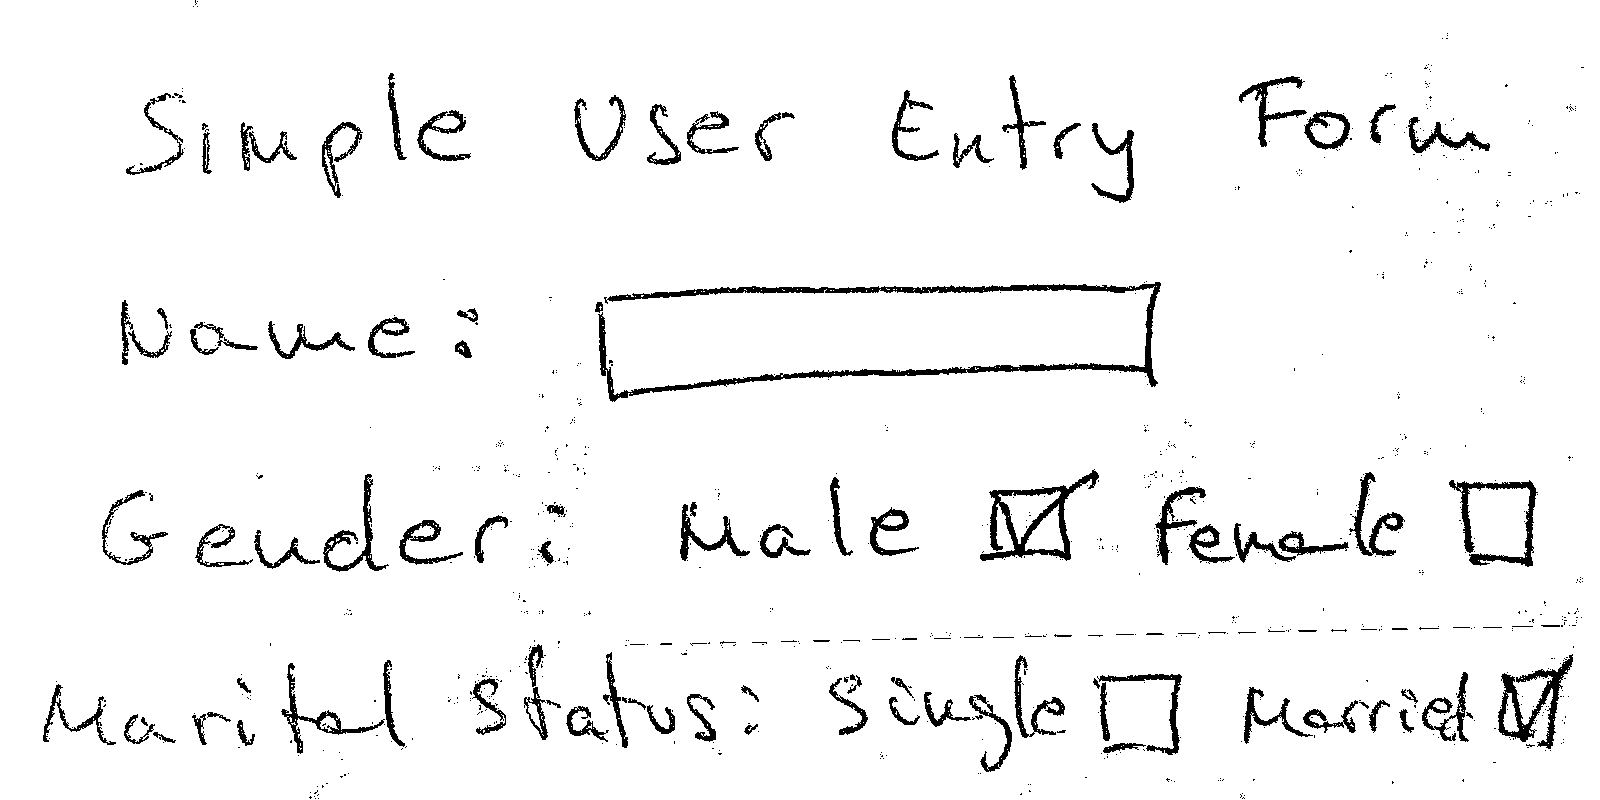Check Box: (965, 466, 1410, 581), (1088, 660, 1476, 762)
Textbox: (590, 276, 1174, 403)
